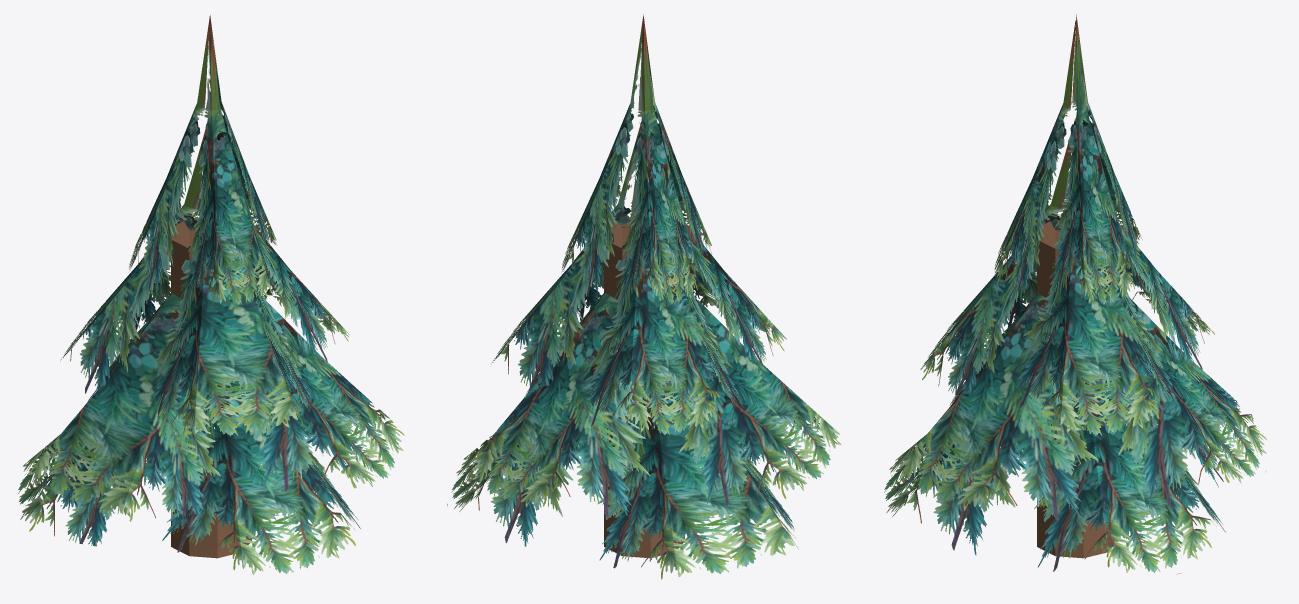
Rendered from Pine.fbx.
3 renders of one model, left to right at view 1: azimuth 30°, elevation 25°; view 2: azimuth 150°, elevation 25°; view 3: azimuth 270°, elevation 25°, orthographic.
Visible parts, largest first — view 1: Cercle.001, Cercle.002, Cercle, Cercle.003, Circle; view 2: Cercle.001, Cercle.002, Cercle, Cercle.003, Circle; view 3: Cercle.001, Cercle.002, Cercle, Cercle.003, Circle.
Part boxes in pixels (bbox=[...]): Cercle.001: bbox=[28, 293, 404, 521]; Cercle.002: bbox=[60, 124, 349, 436]; Cercle: bbox=[18, 381, 360, 574]; Cercle.003: bbox=[129, 15, 277, 306]; Circle: bbox=[171, 217, 251, 558]; Cercle.001: bbox=[467, 227, 841, 518]; Cercle.002: bbox=[491, 120, 786, 439]; Cercle: bbox=[447, 364, 798, 579]; Cercle.003: bbox=[562, 14, 712, 307]; Circle: bbox=[604, 219, 684, 558]; Cercle.001: bbox=[899, 213, 1266, 520]; Cercle.002: bbox=[920, 115, 1214, 435]; Cercle: bbox=[884, 379, 1226, 574]; Cercle.003: bbox=[994, 14, 1142, 304]; Circle: bbox=[1037, 218, 1117, 558].
Bounding box in the file's own units: 198 × 278 × 194.
